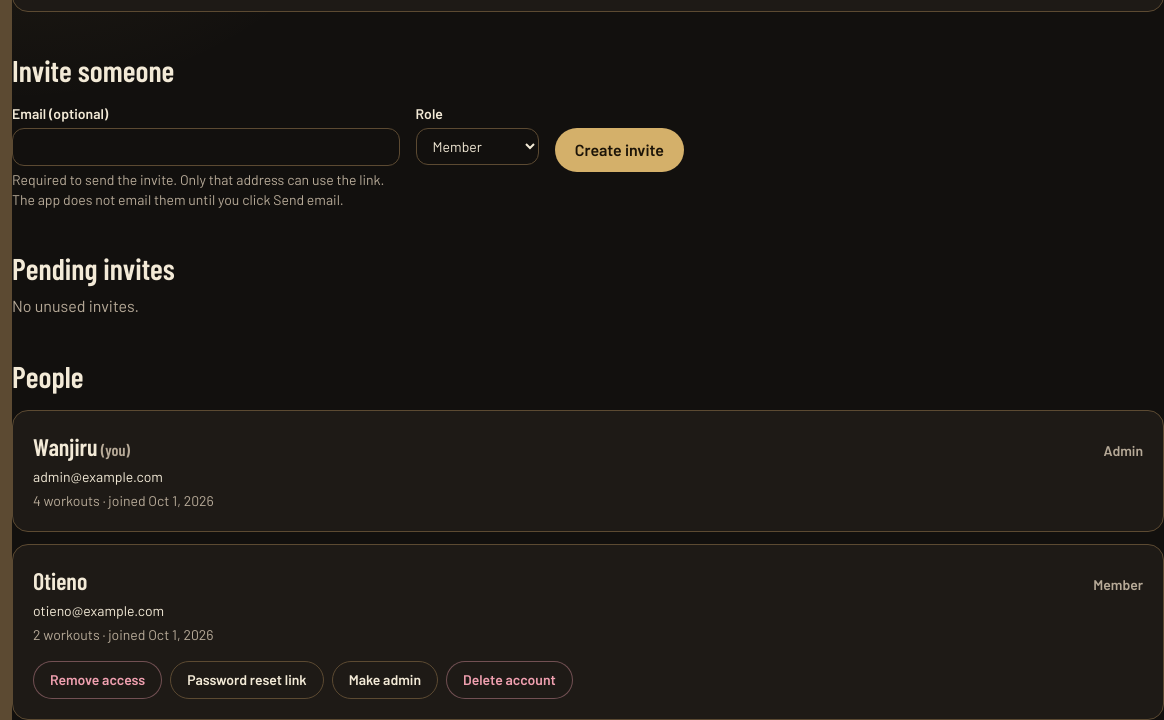
AdminPage › removes a member and hides actions on your own account
The image size is (1164, 720).
(page scrolled)
What coordinates should you click on to do the following:
click the button "Remove access"
I would click on:
 (98, 680)
Its box is [33,661,162,699].
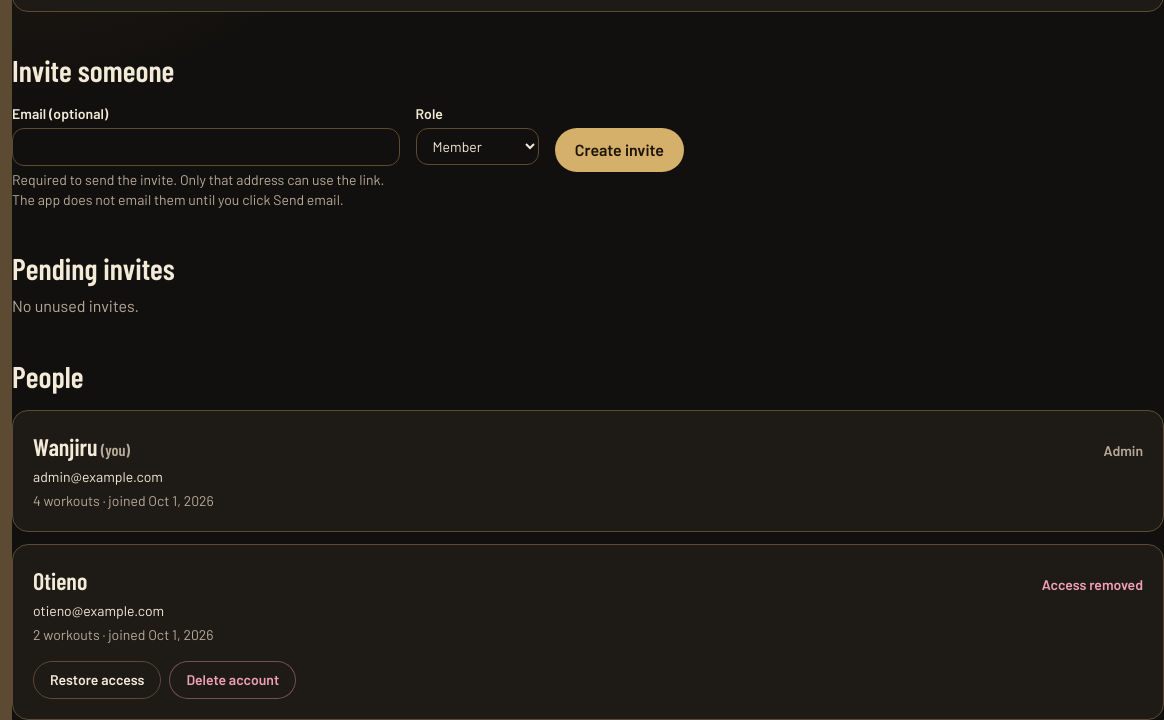
Now the text "Access removed" is shown, box [1042,575,1143,595]
